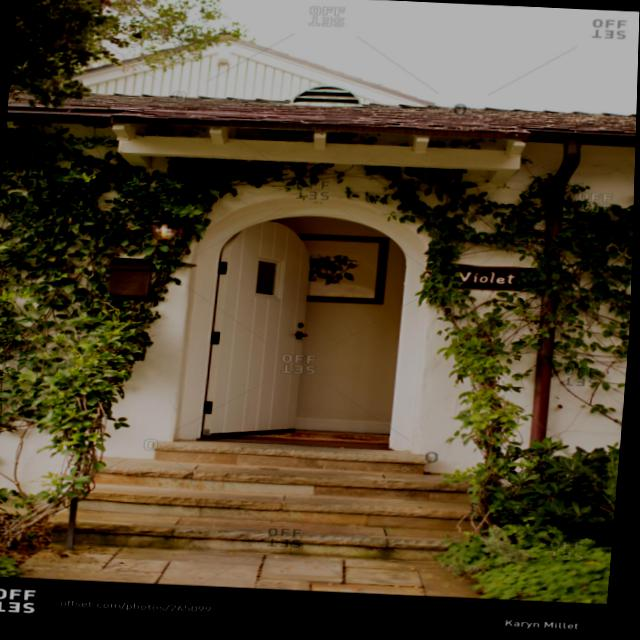semi-open: (176, 186, 447, 467)
